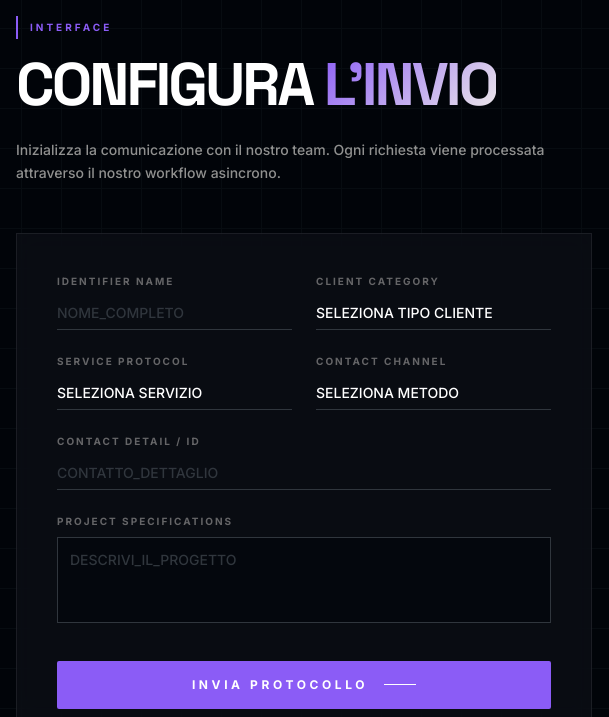
Test: ContactForm › shows validation errors for empty form submission
Click the button "Invia Protocollo".
click(304, 684)  # box [57, 660, 551, 708]
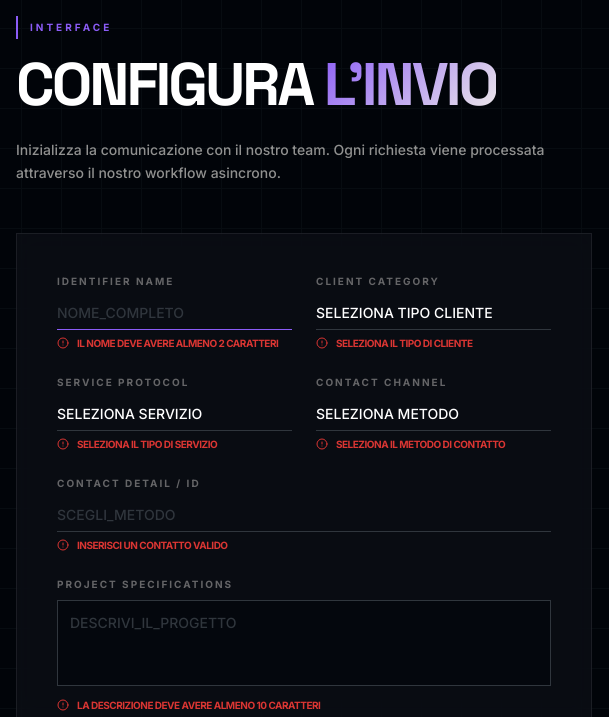
Check: the text "Il nome deve avere almeno 2 caratteri" is shown, box [57, 336, 292, 350]
